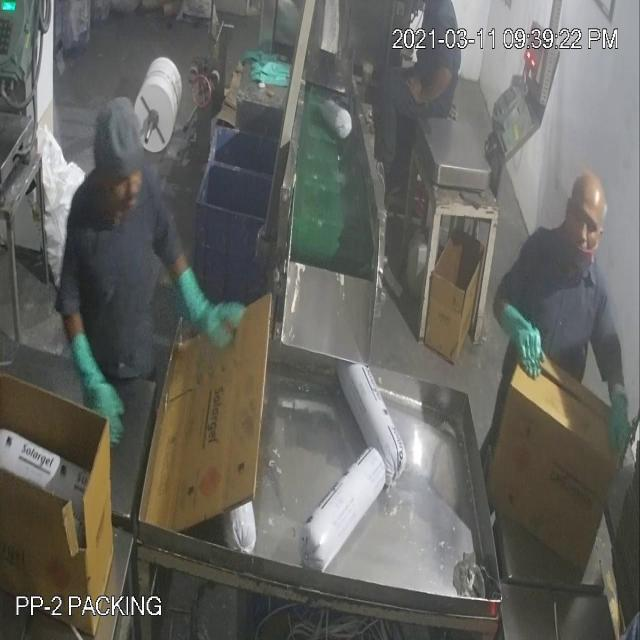Gloves: (31, 92, 618, 426)
